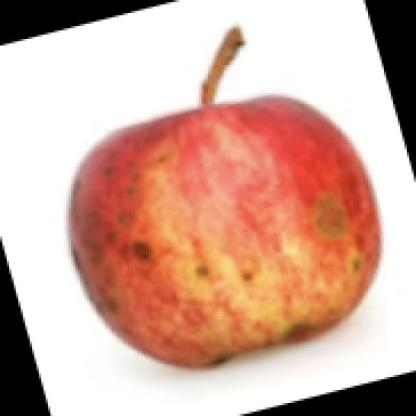defect: (72, 139, 210, 345), (310, 180, 384, 288)
